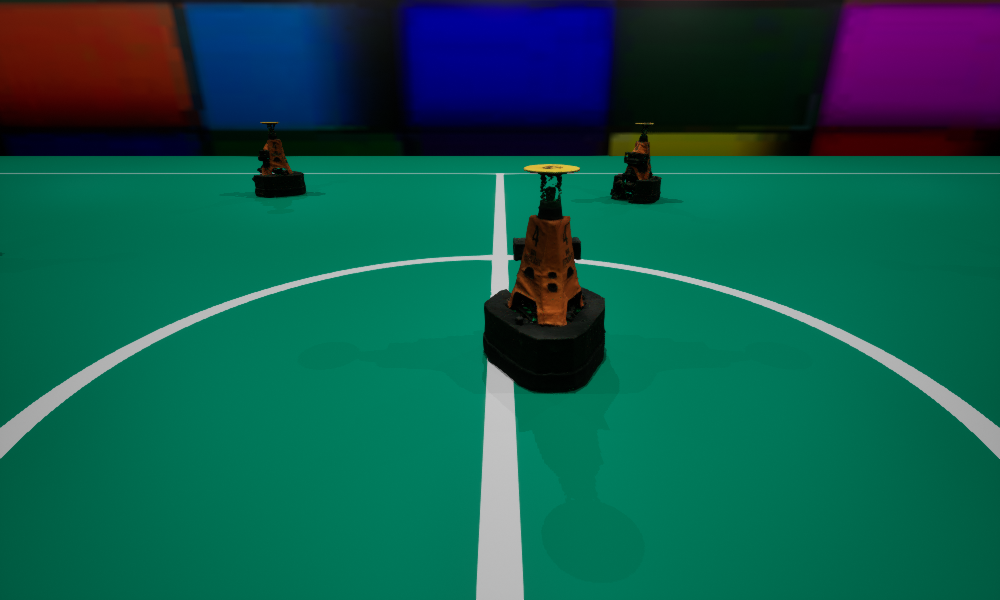o: (483, 164, 605, 392), (610, 123, 661, 202), (252, 122, 305, 197)
